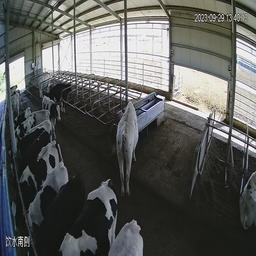cow: (9, 136, 69, 225), (54, 175, 118, 253), (27, 174, 88, 252), (114, 95, 142, 200), (4, 110, 48, 147), (110, 214, 149, 255), (239, 154, 255, 238), (45, 91, 68, 140), (6, 92, 25, 120), (36, 70, 52, 99)
